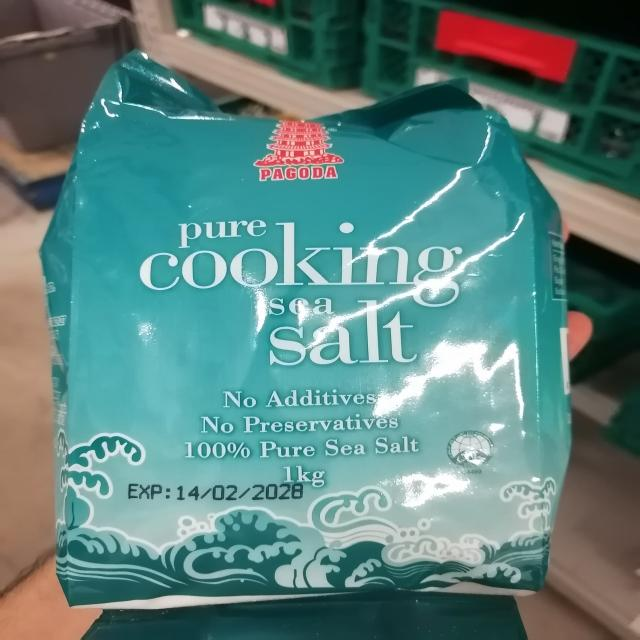object_name: (84, 103, 540, 597)
